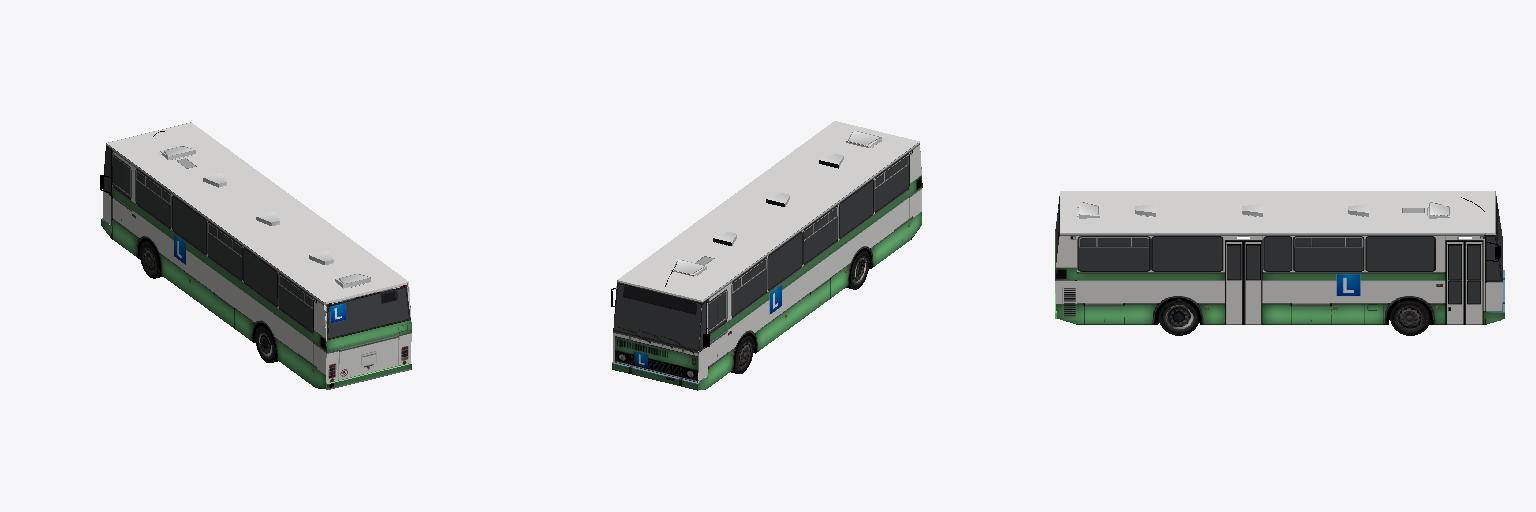
The picture shows the model from 3 angles: view 1: azimuth 30°, elevation 25°; view 2: azimuth 150°, elevation 25°; view 3: azimuth 270°, elevation 25°; orthographic projection.
Visible parts, largest first — view 1: Box009; view 2: Box009; view 3: Box009, Cylinder005.
Part boxes in pixels (x1,y1,x2,y2): Box009: (100,122,411,389); Box009: (611,121,922,390); Box009: (1055,191,1504,324); Cylinder005: (1160,297,1198,335).
Size of the model in its own units: 3.18 by 3.65 by 12.64.
Materials: 1 (1 with a texture image).